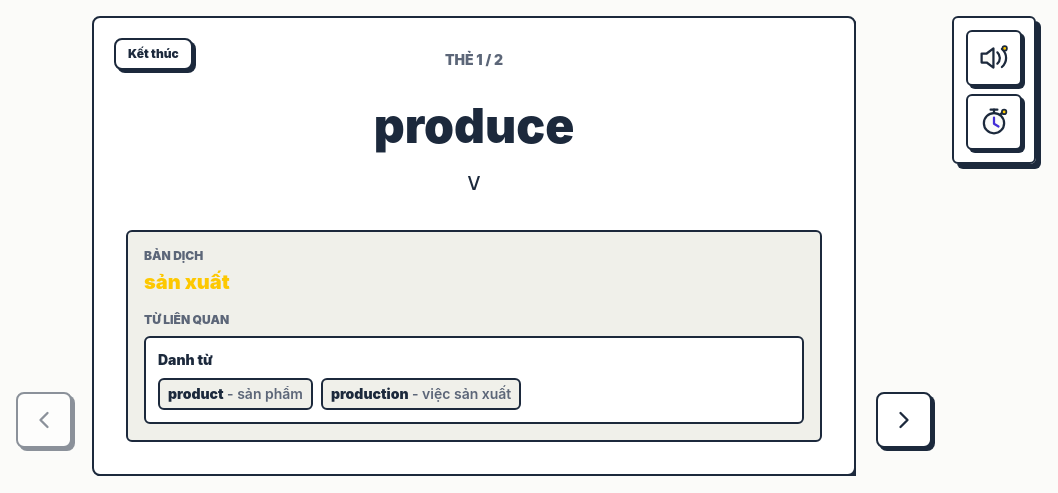
FlashcardStudyPage › opens a timed remember confirmation before manually advancing an unrated card
expect the text "produce" is shown: met, box [374,96,574,155]
expect the button "Nhớ" is not shown: met
Click the button named "Thẻ tiếp theo" at x=904, y=420, box [876,392,932,448]
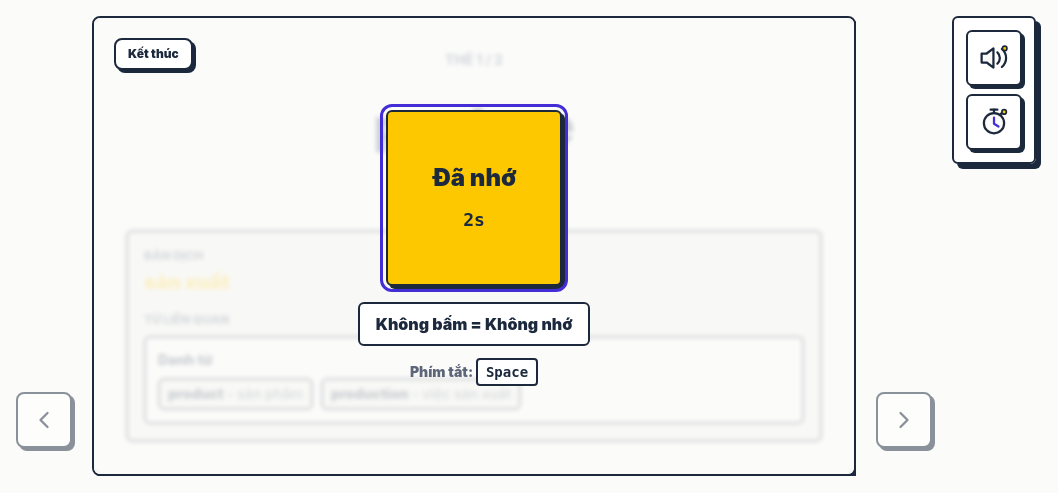
expect the text "produce" is shown: met, box [374,96,574,155]
expect the button "Đã nhớ 2s" is shown: met
expect the text "Không bấm = Không nhớ" is shown: met, box [358,302,590,346]
Click the button "Đã nhớ 2s" at x=474, y=198, box [386,110,562,286]
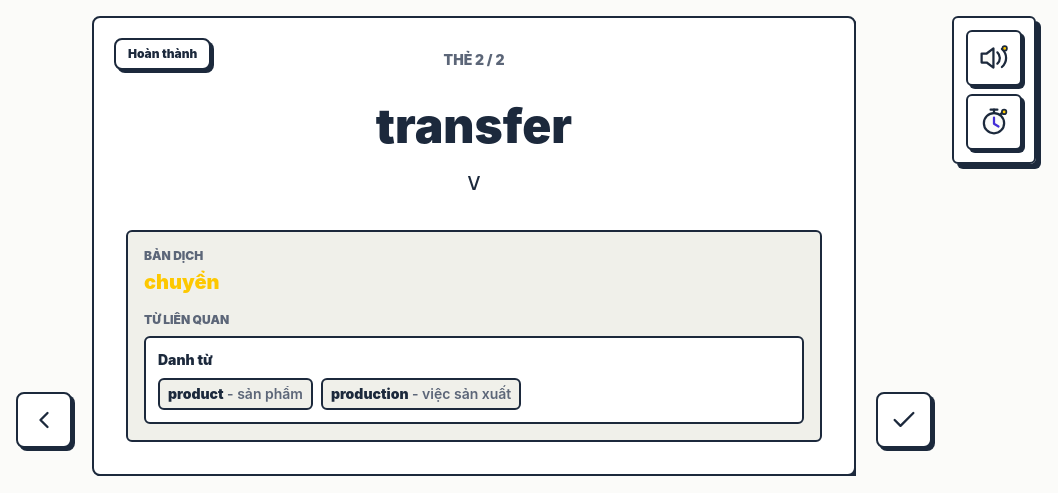
expect the text "transfer" is shown: met, box [376,96,572,155]
